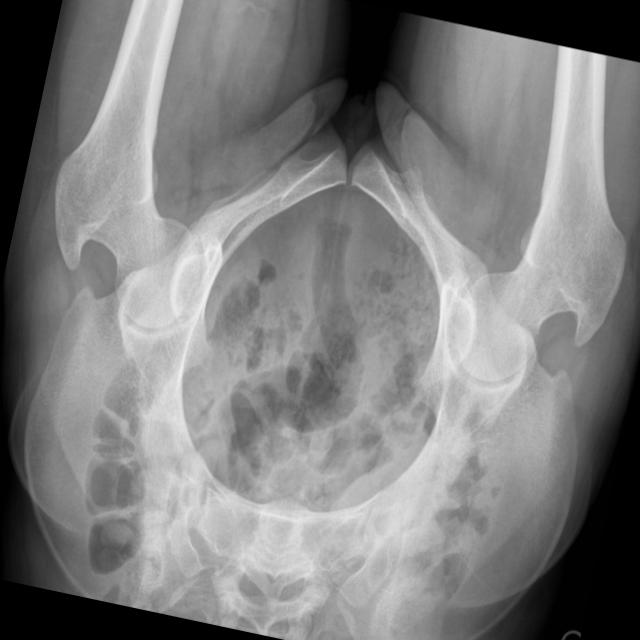normal-left: (54, 16, 198, 328)
normal-right: (452, 88, 625, 381)
